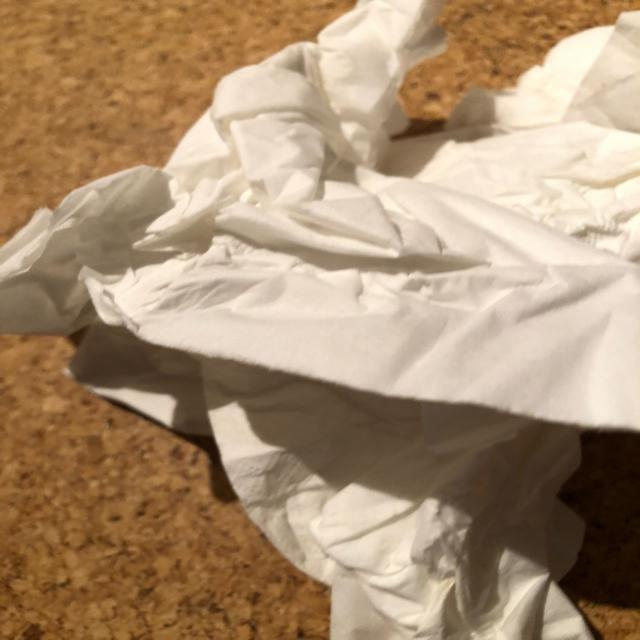kitchen paper: (0, 0, 640, 442), (62, 315, 597, 640)
